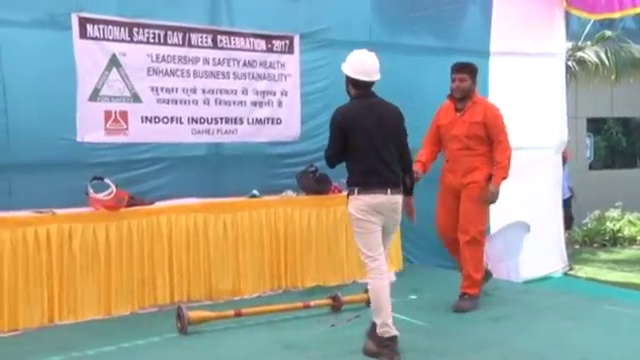helmet: (340, 47, 383, 84)
helmet_off: (450, 61, 478, 100)
helmet_on: (338, 45, 383, 100)
person: (323, 44, 416, 359), (408, 61, 516, 310)
